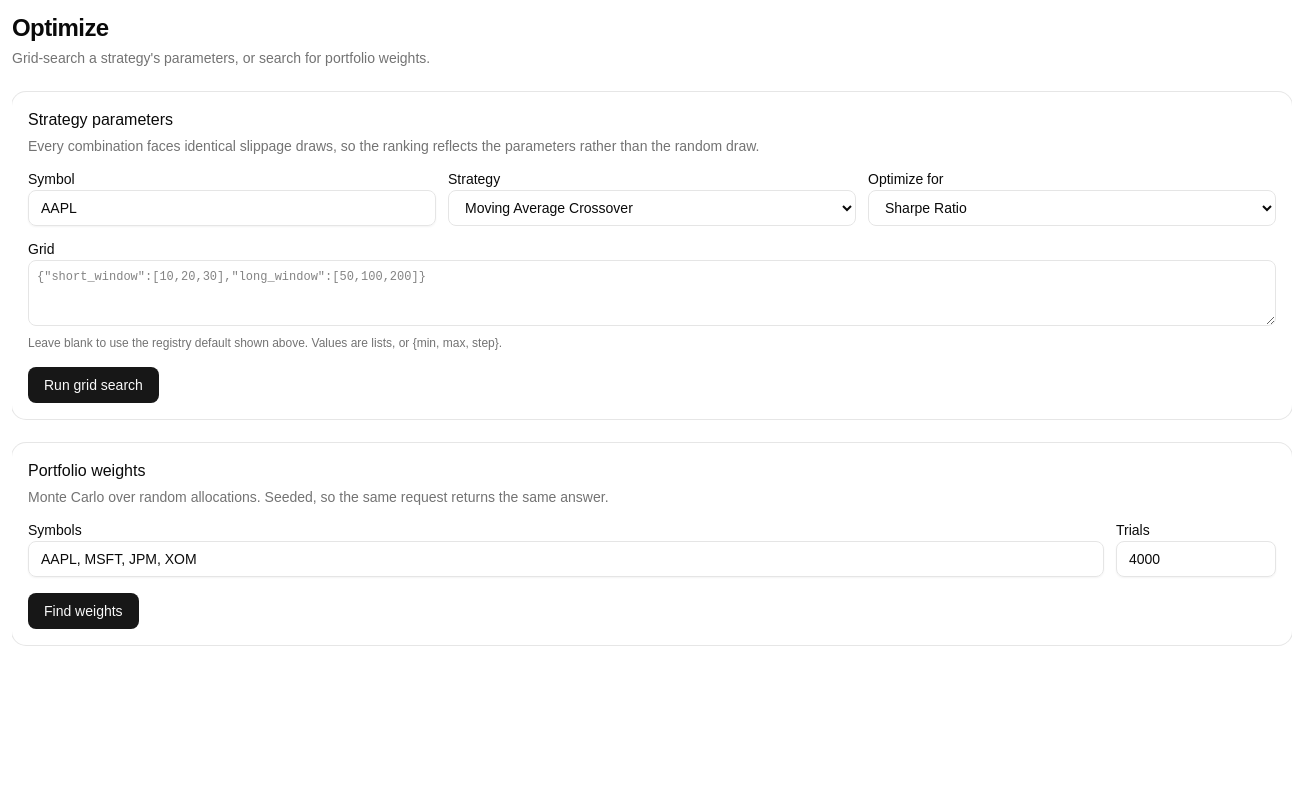
Test case: OptimizePage — grid search › shows the winner and how much of the grid was searched
The image size is (1292, 801).
Click the button "Run grid search".
click(93, 385)  # box [28,367,159,403]
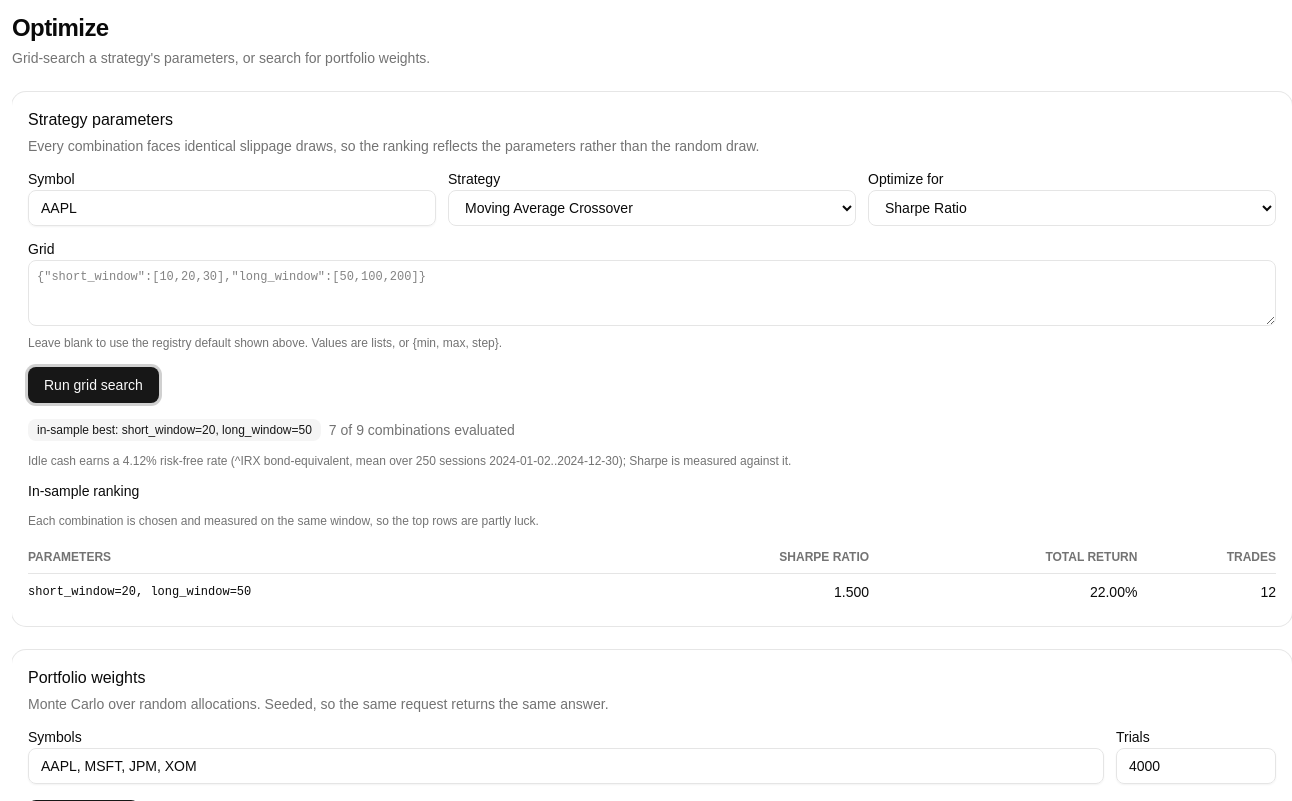
Expected: the text "in-sample best: short_window=20, long_window=50" is shown, [28,419,321,441]
Expected: the text "7 of 9 combinations evaluated" is shown, [329,420,515,440]
Expected: the text "cash earns a 4.12% risk-free rate" is shown, [28,454,791,468]
